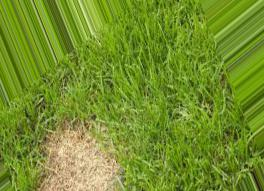patch: (47, 157, 112, 191), (56, 127, 98, 154)
